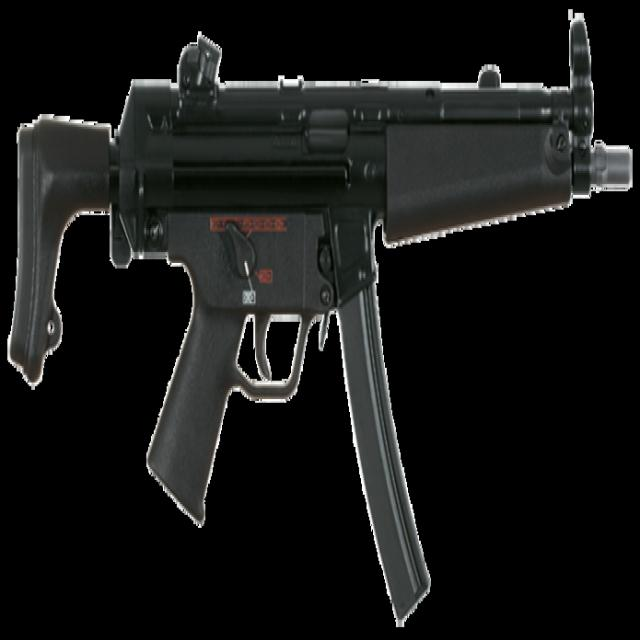SMG: (6, 15, 636, 631)
